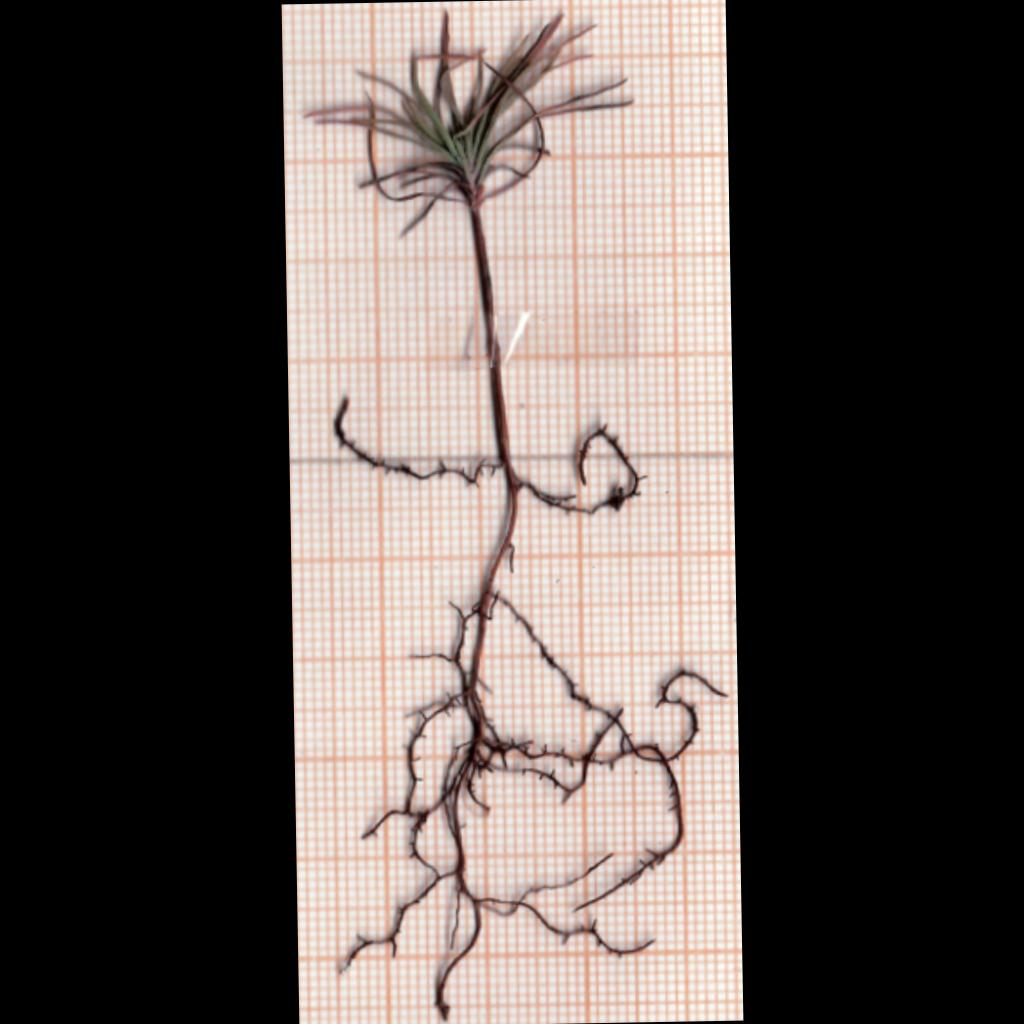flowerPinus: (307, 13, 630, 234)
rootPinus: (335, 398, 725, 1020)
stemPinus: (470, 208, 510, 461)
